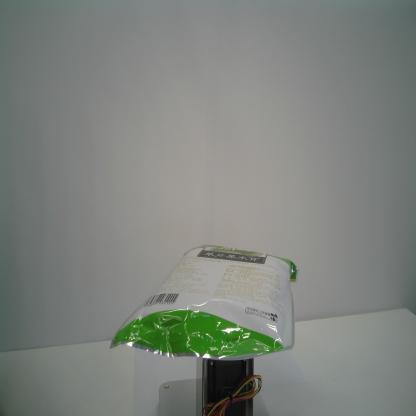Dried Food: (108, 243, 299, 364)
